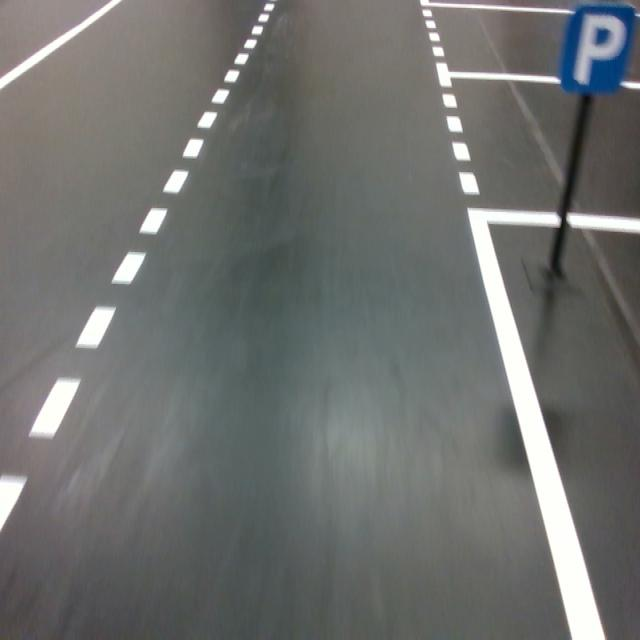parking-sign: (558, 2, 638, 96)
